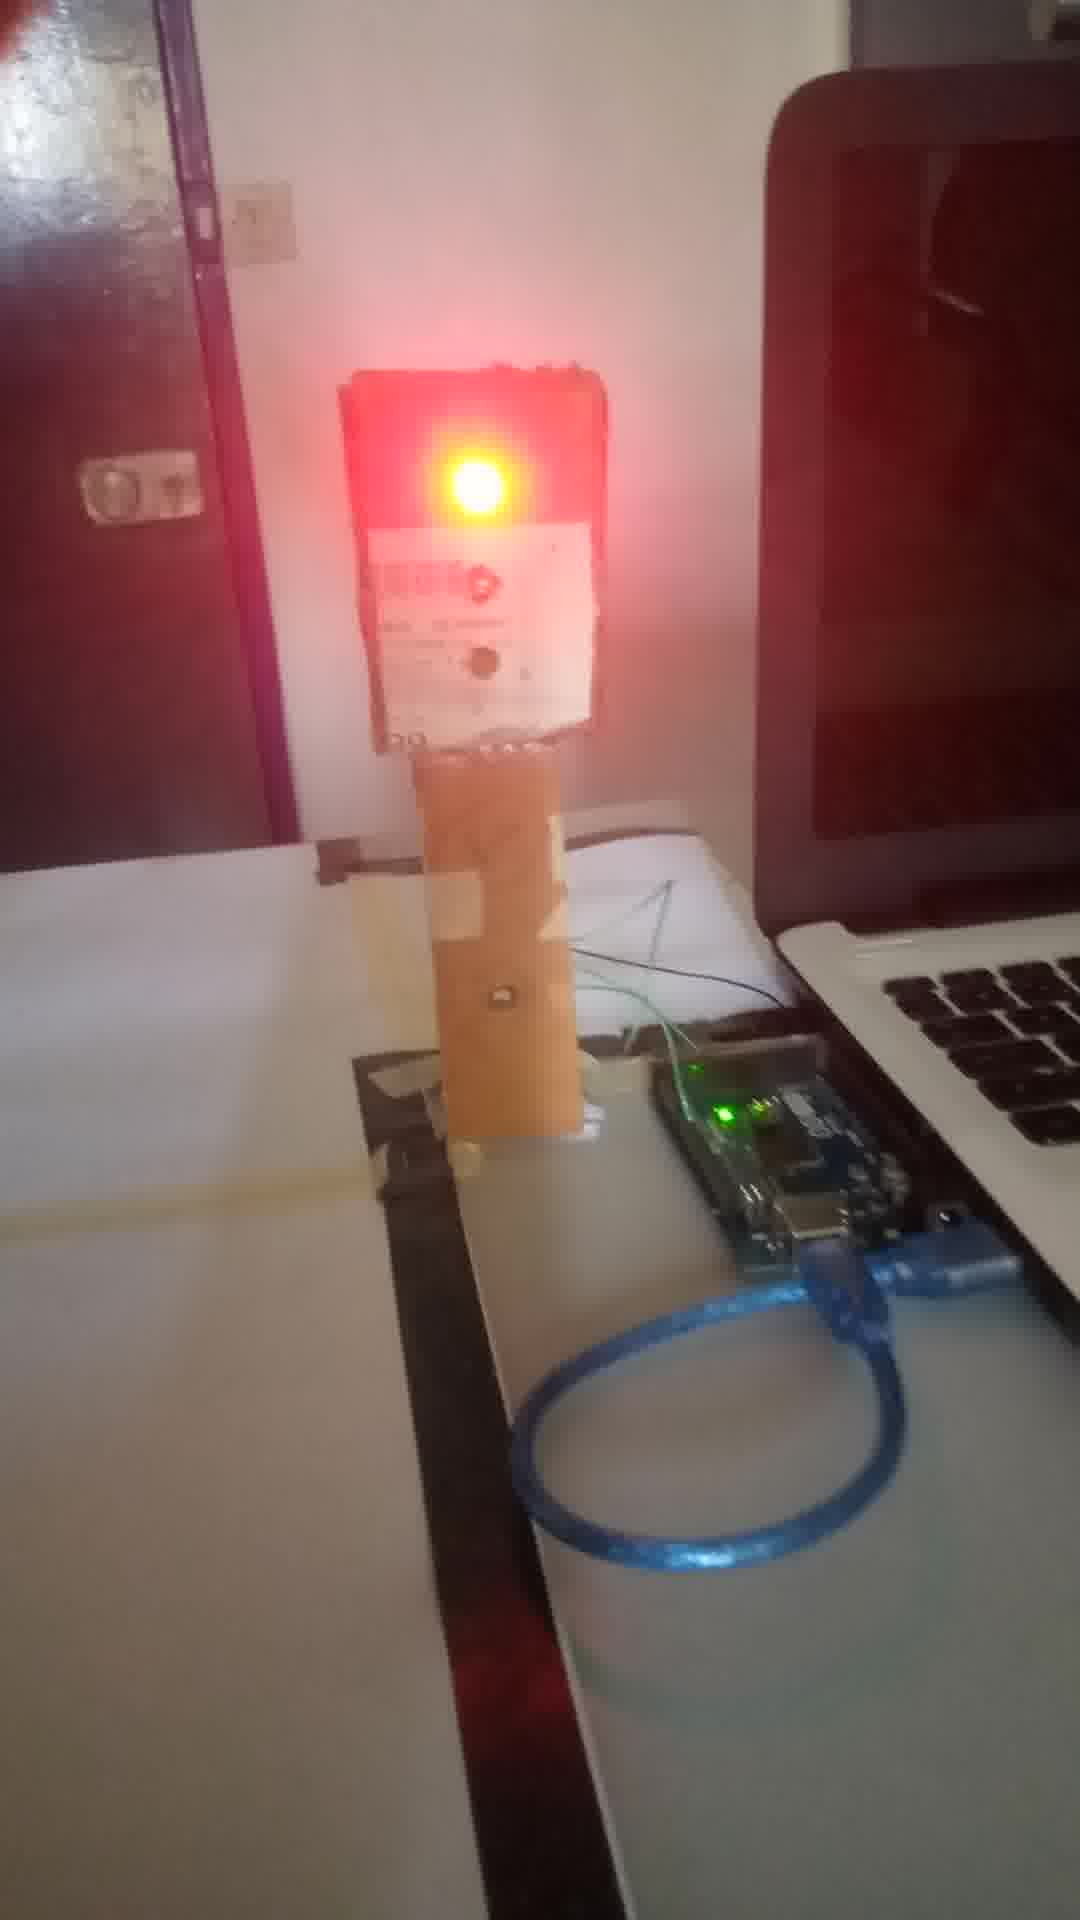red: (355, 371, 597, 749)
